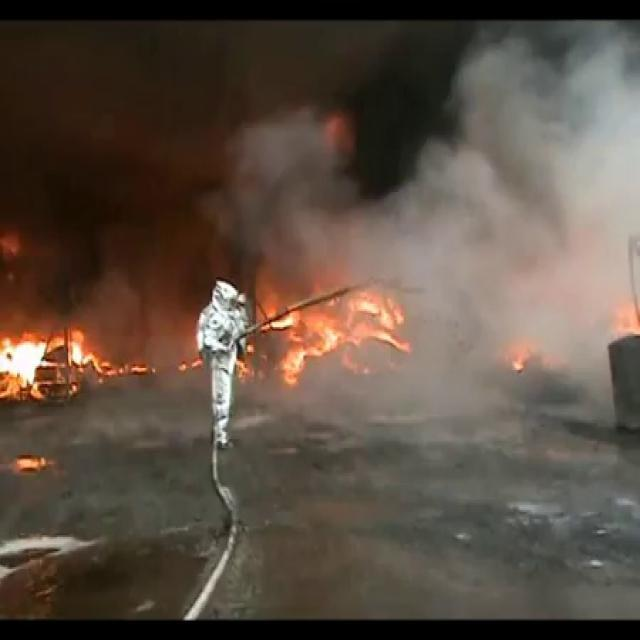Fire: (264, 276, 410, 376), (0, 320, 148, 391)
Smoke: (0, 3, 391, 291), (372, 19, 640, 385)
